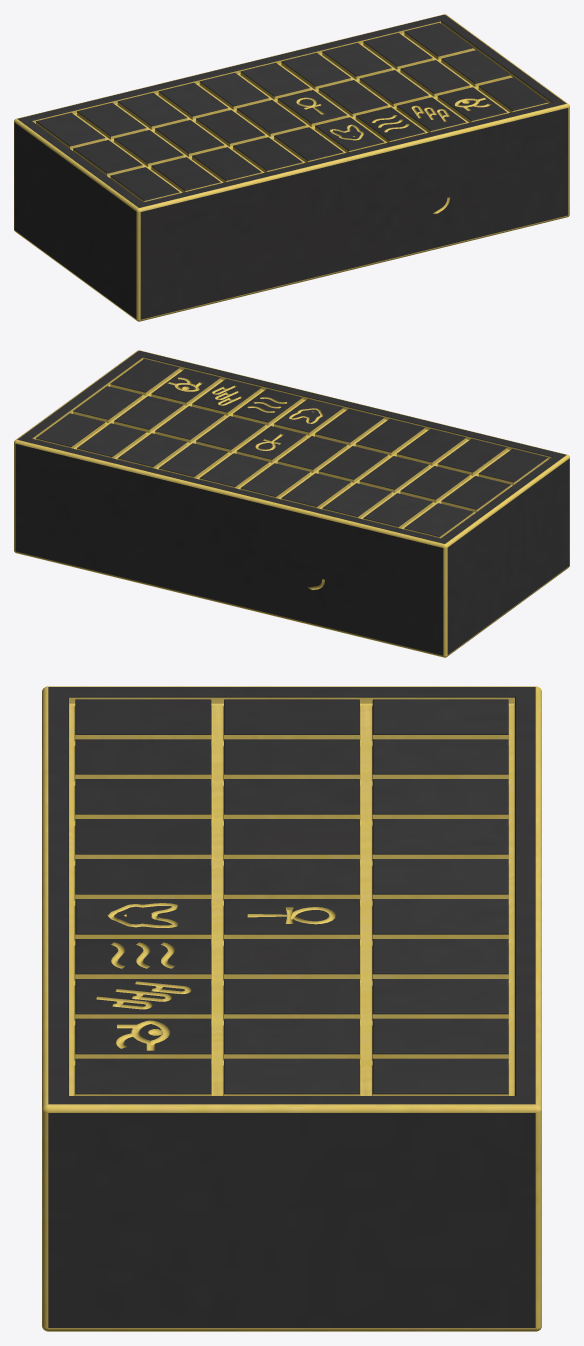
File: tablero.fbx
3 views of the same model, one above another, from view 1: azimuth 30°, elevation 25°; view 2: azimuth 150°, elevation 25°; view 3: azimuth 270°, elevation 25° (orthographic). The views are drawn at different scales.
Parts seen in each view (by area): view 1: pCube22; view 2: pCube22; view 3: pCube22.
Part boxes in pixels (x1,y1,x2,y2): pCube22: [14, 14, 569, 321]; pCube22: [14, 350, 569, 657]; pCube22: [42, 686, 541, 1331].
Size of the model in its own units: 60 by 15 by 30.
2 materials, 2 textured.
